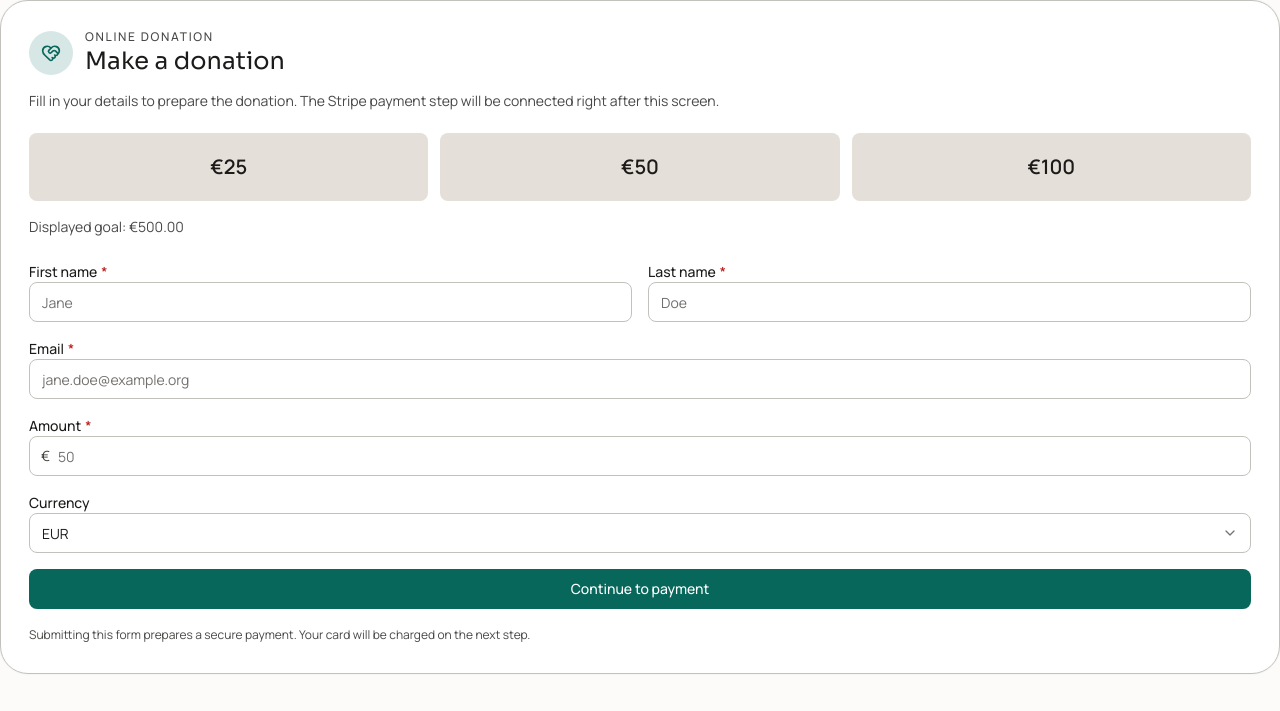
Test: PublicDonationForm › shows inline validation errors before submission
The image size is (1280, 711).
Click the button "Continue to payment". click: (640,589)
box: [29,569,1251,609]
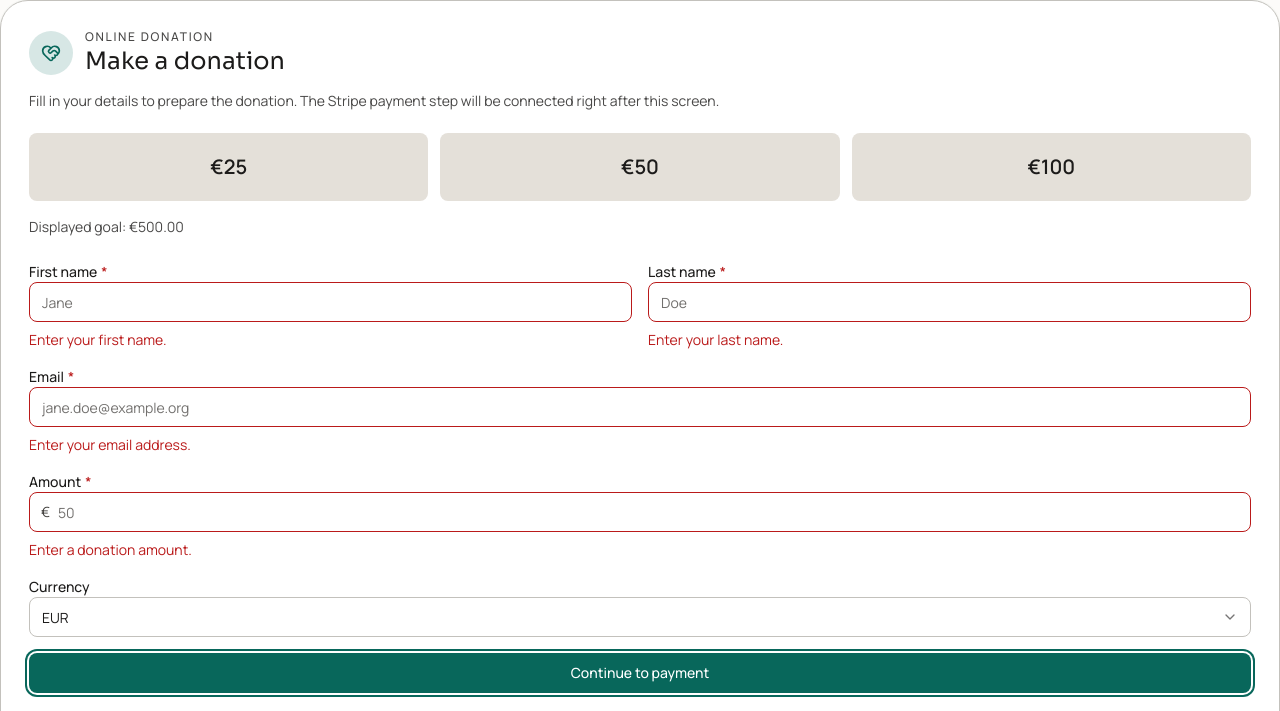
Now the text "Enter your first name." is shown, box [29,330,166,349]
Now the text "Enter your last name." is shown, box [648,330,783,349]
Now the text "Enter your email address." is shown, box [29,435,191,454]
